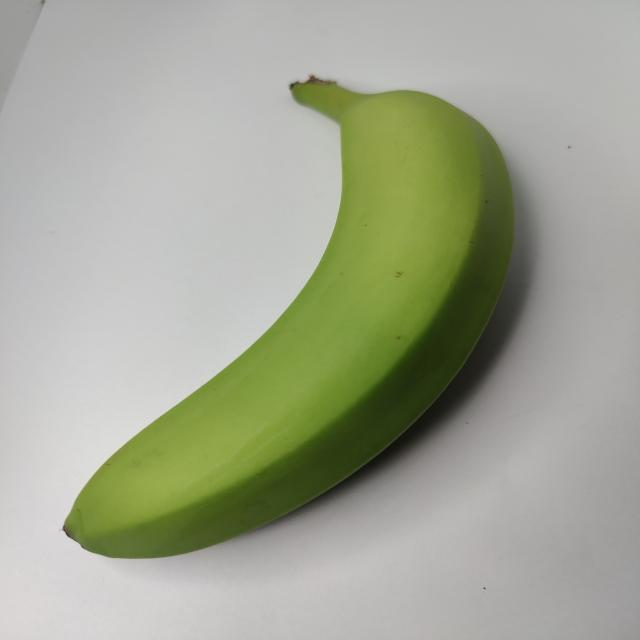raw: (64, 56, 535, 568)
